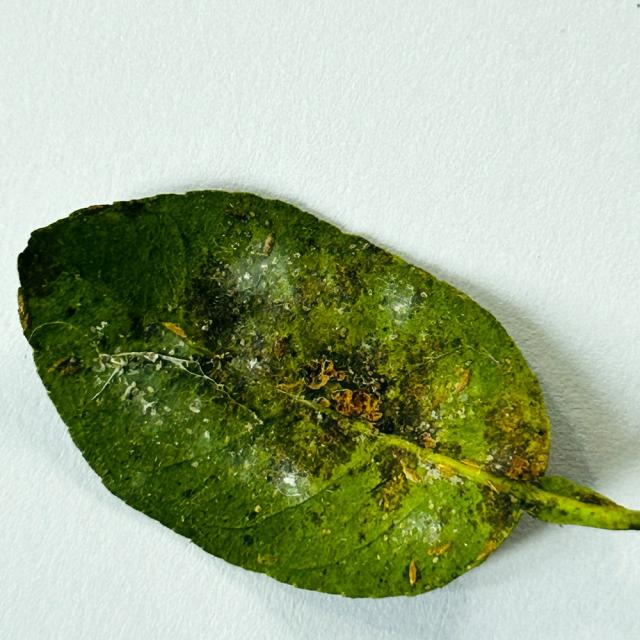Bacterial_Blight: (270, 404, 364, 486), (483, 395, 547, 473), (396, 452, 486, 502), (211, 260, 267, 311), (371, 460, 417, 511), (293, 272, 340, 315), (424, 368, 469, 412), (329, 387, 383, 421), (226, 350, 268, 382), (303, 357, 341, 390), (494, 405, 529, 437), (128, 386, 157, 415), (49, 354, 85, 376), (401, 384, 429, 410), (352, 370, 383, 391), (238, 316, 265, 340), (472, 539, 497, 563), (330, 389, 354, 411), (400, 459, 421, 484), (452, 368, 472, 394), (273, 334, 292, 359), (278, 380, 304, 394), (428, 541, 451, 556), (457, 458, 483, 471), (225, 208, 249, 222), (419, 431, 437, 449), (256, 552, 280, 565), (90, 322, 108, 338), (320, 431, 339, 446), (122, 382, 137, 401), (310, 510, 323, 526), (317, 397, 331, 408), (357, 531, 368, 543), (213, 359, 223, 372), (189, 403, 201, 413), (338, 418, 349, 428), (201, 320, 211, 330), (356, 434, 366, 444), (339, 327, 348, 338), (166, 303, 175, 312), (456, 294, 467, 301), (292, 268, 300, 277), (245, 422, 254, 430), (504, 358, 512, 366), (231, 242, 239, 250), (322, 528, 331, 535), (394, 318, 403, 325), (389, 334, 398, 341), (271, 256, 278, 265), (261, 263, 268, 271), (213, 354, 221, 361), (293, 252, 301, 259), (96, 398, 103, 405), (378, 304, 385, 311), (303, 305, 310, 312)
Lemon: (16, 191, 639, 601)
